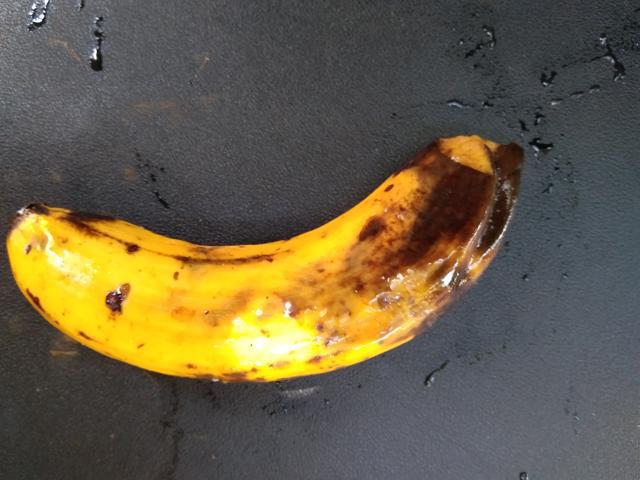overripe: (0, 187, 352, 400)
rotten: (296, 107, 546, 391)
